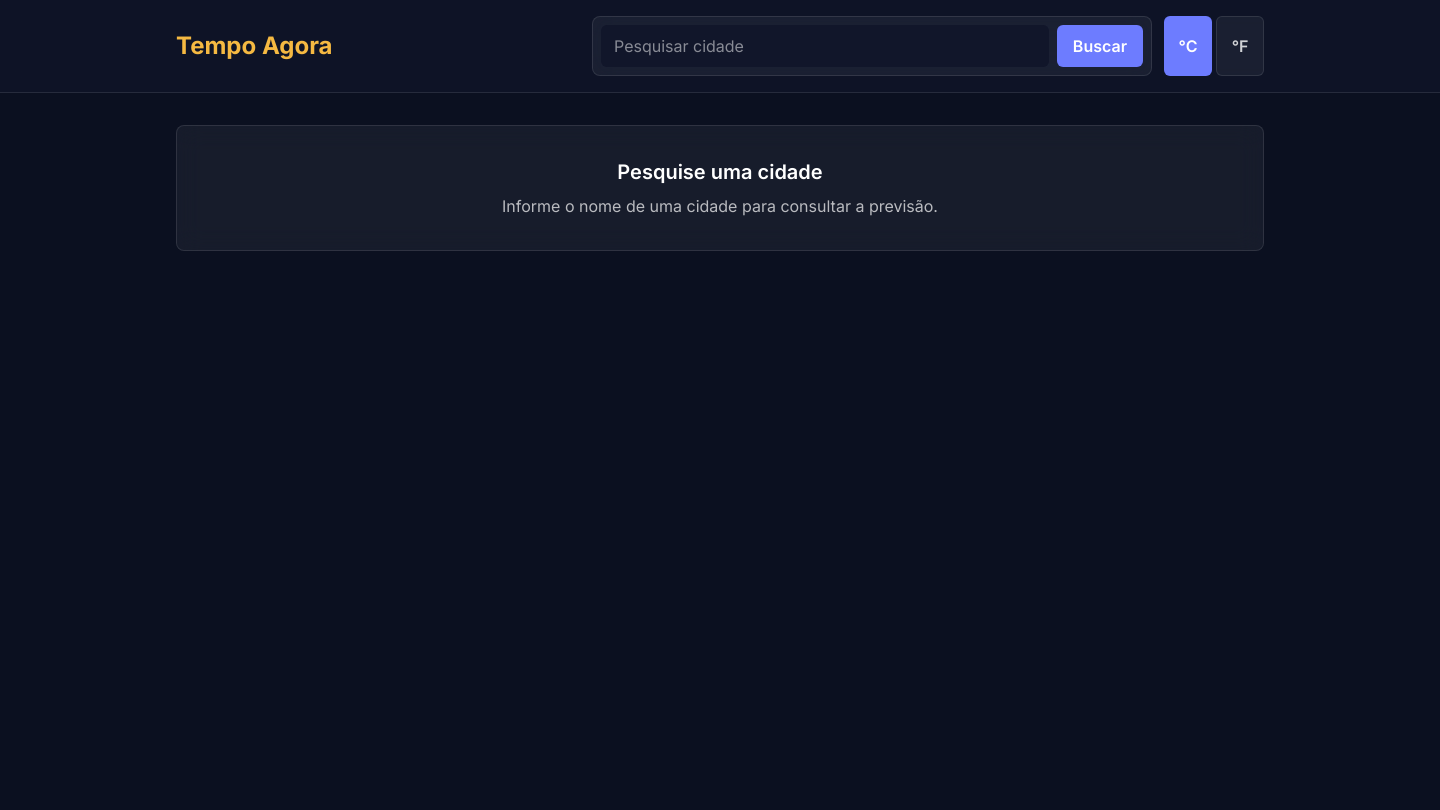
it: App › exibe os estados vazio e erro, com nova tentativa
Type "Cidade inexistente" into the search field labelled "Pesquisar cidade" at (825, 46), box [601, 25, 1049, 67]
Then press Enter
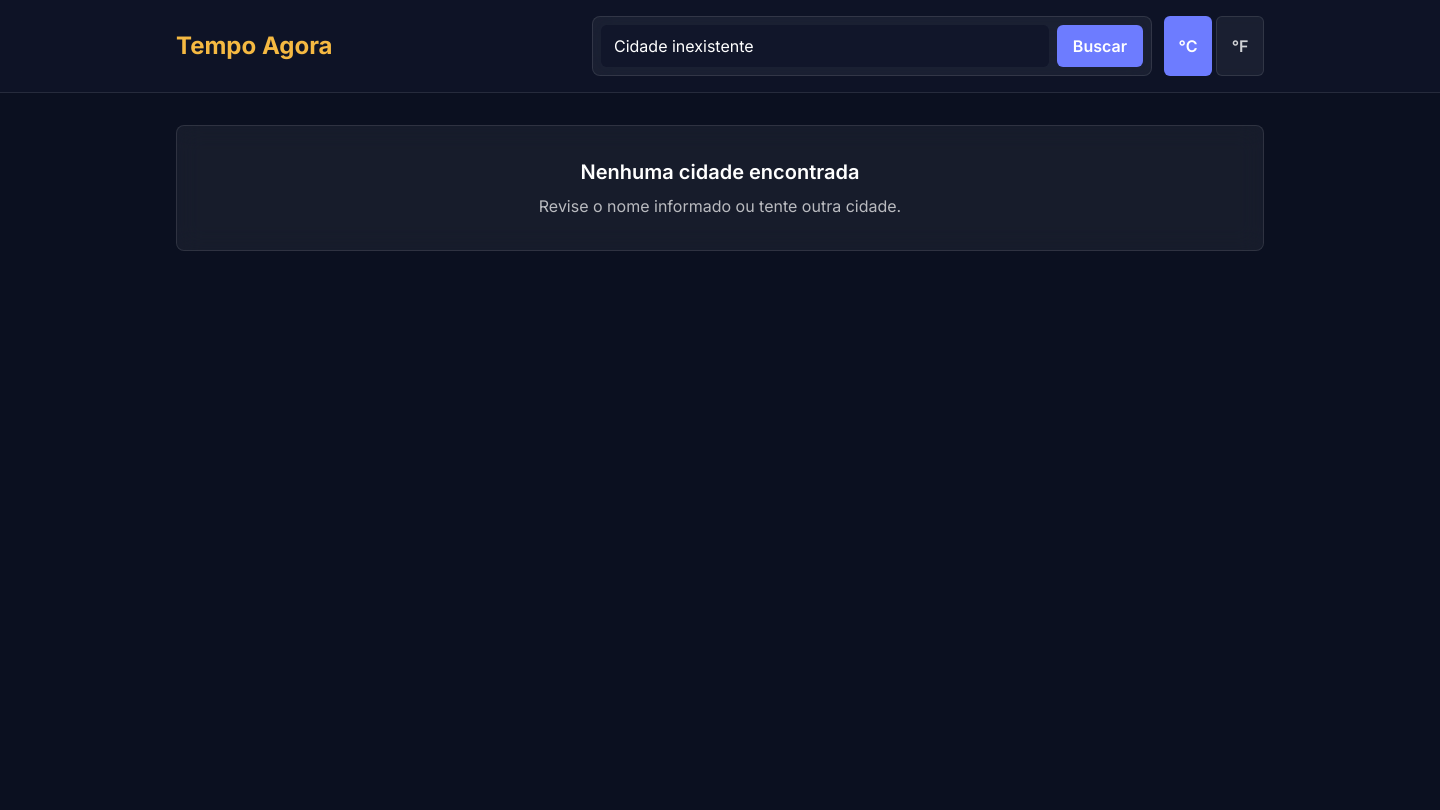
Now the heading "Nenhuma cidade encontrada" is shown, box [581, 160, 860, 184]
Replace the text in the search field named "Pesquisar cidade" with "Falha" at (825, 46), box [601, 25, 1049, 67]
Then press Enter
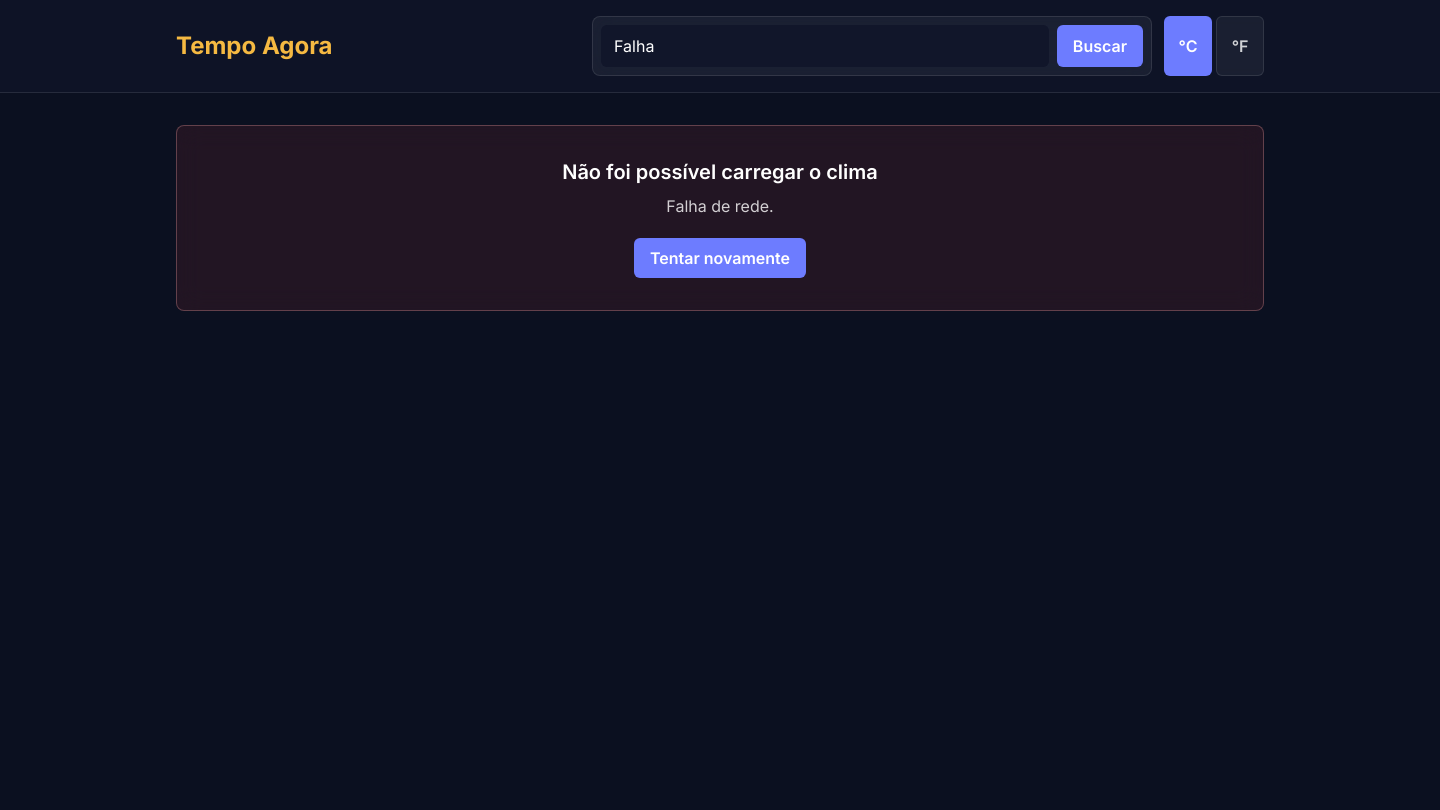
Now the message "Não foi possível carregar o clima Falha de rede. Tentar novamente" is shown, box [176, 125, 1264, 311]
Click the button "Tentar novamente" at (720, 258), box [634, 238, 806, 278]
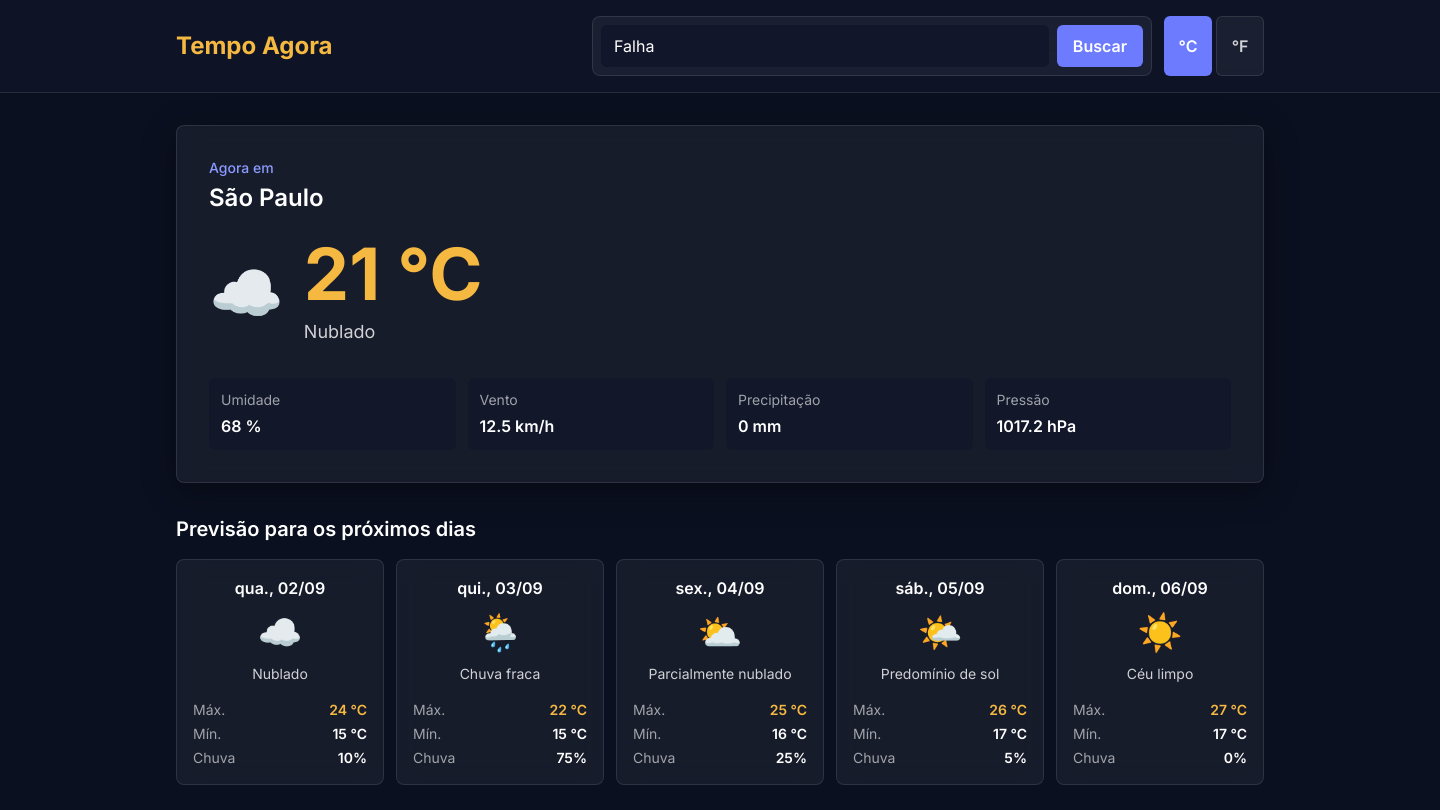
Now the heading "São Paulo" is shown, box [209, 183, 324, 212]
